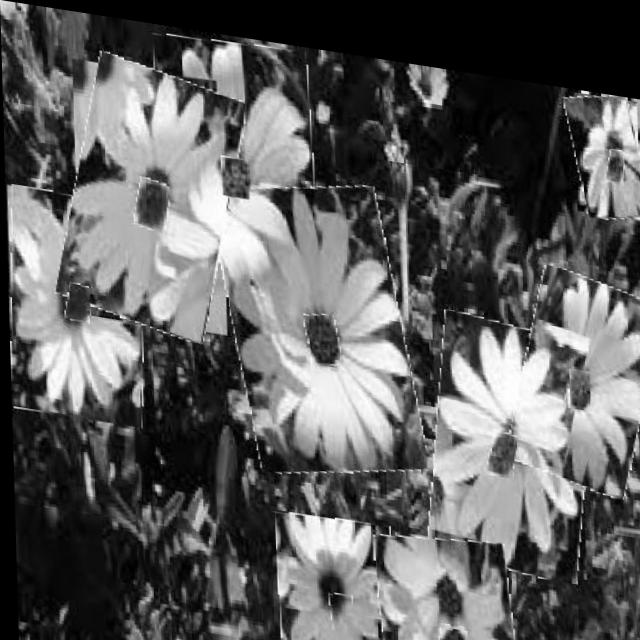Flower: (216, 161, 417, 478), (59, 49, 240, 338), (424, 296, 592, 567), (154, 25, 318, 287), (4, 183, 145, 426), (507, 245, 640, 480), (373, 514, 515, 640), (273, 501, 394, 640), (568, 70, 640, 204), (303, 302, 340, 357), (134, 174, 169, 229), (486, 413, 516, 463), (221, 148, 251, 194), (326, 582, 351, 623), (64, 281, 89, 322), (433, 609, 465, 640), (567, 350, 590, 393), (607, 130, 626, 166)
